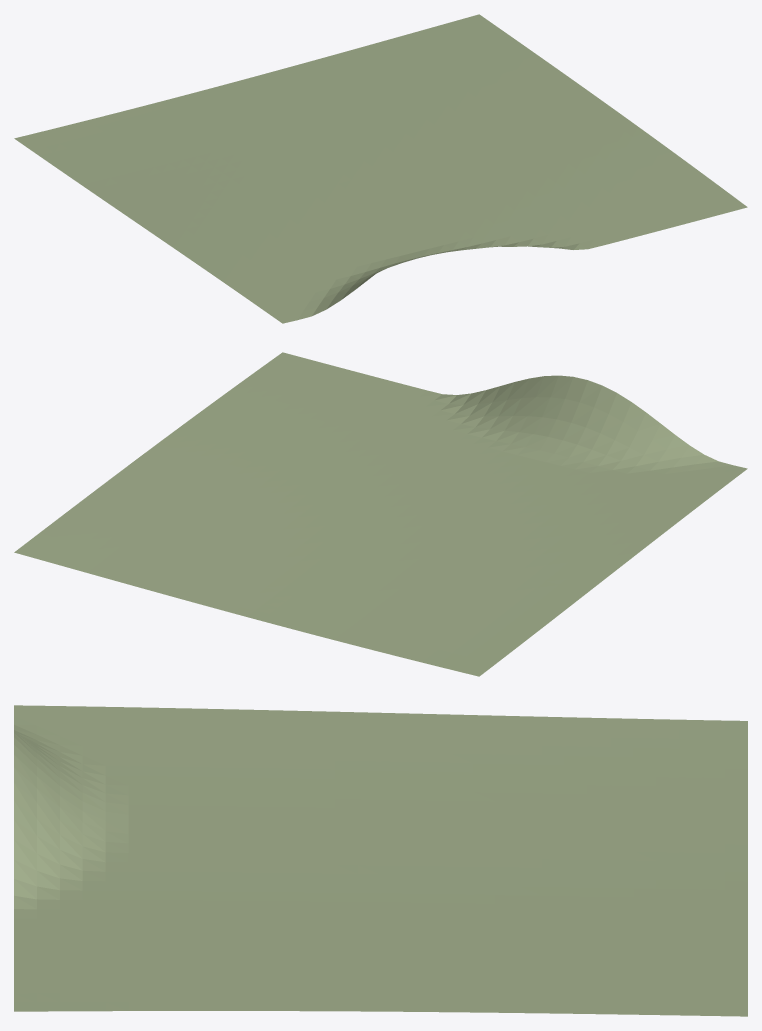
File: expanse-18-3.glb
The picture shows the model from 3 angles, top to bottom: view 1: azimuth 30°, elevation 25°; view 2: azimuth 150°, elevation 25°; view 3: azimuth 270°, elevation 25°; orthographic projection. The views are drawn at different scales.
Visible parts, largest first — view 1: expanse-18-3; view 2: expanse-18-3; view 3: expanse-18-3.
Part boxes in pixels (x1,y1,x2,y2): expanse-18-3: (14, 14, 747, 323); expanse-18-3: (14, 352, 747, 676); expanse-18-3: (14, 705, 747, 1016).
Bounding box in the file's own units: 256 × 31.99 × 256.
